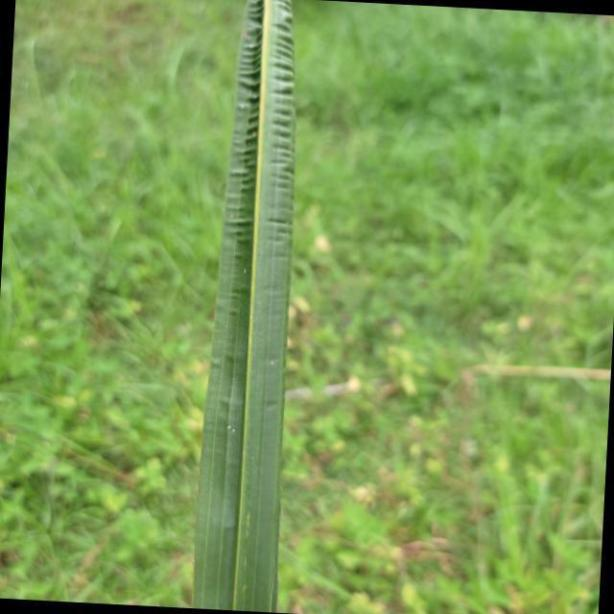Boron: (189, 0, 299, 614)
